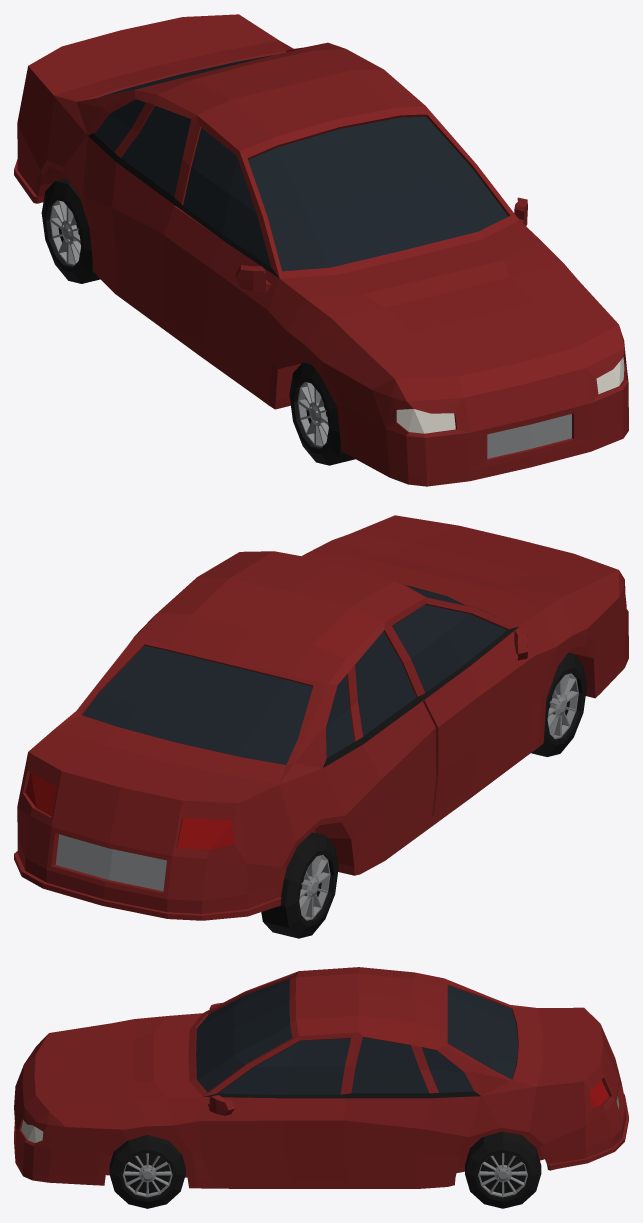
Rendered from sedan.glb.
3 renders of one model, top to bottom at view 1: azimuth 30°, elevation 25°; view 2: azimuth 150°, elevation 25°; view 3: azimuth 270°, elevation 25°, orthographic. The views are drawn at different scales.
Parts seen in each view (by area): view 1: NormalCar1_Cube.012, NormalCar1_BackWheels_Cube.011, NormalCar1_FrontRightWheel_Cube.008; view 2: NormalCar1_Cube.012, NormalCar1_BackWheels_Cube.011, NormalCar1_FrontRightWheel_Cube.008; view 3: NormalCar1_Cube.012, NormalCar1_BackWheels_Cube.011, NormalCar1_FrontLeftWheel_Cube.007.
Part boxes in pixels (bbox=[...]): NormalCar1_Cube.012: bbox=[14, 14, 628, 486]; NormalCar1_BackWheels_Cube.011: bbox=[41, 178, 100, 283]; NormalCar1_FrontRightWheel_Cube.008: bbox=[289, 361, 355, 465]; NormalCar1_Cube.012: bbox=[14, 515, 628, 920]; NormalCar1_BackWheels_Cube.011: bbox=[261, 832, 338, 938]; NormalCar1_FrontRightWheel_Cube.008: bbox=[531, 652, 586, 756]; NormalCar1_Cube.012: bbox=[14, 967, 628, 1188]; NormalCar1_BackWheels_Cube.011: bbox=[465, 1131, 541, 1208]; NormalCar1_FrontLeftWheel_Cube.007: bbox=[109, 1135, 185, 1208].
Bounding box in the file's own units: 6.1 × 4.78 × 15.5.
